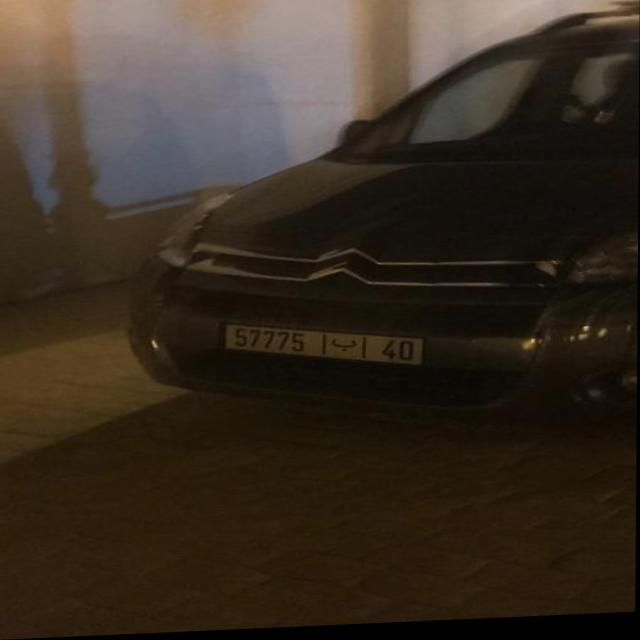License-Plate: (225, 327, 425, 368)
